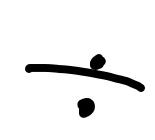div: (26, 54, 144, 119)
